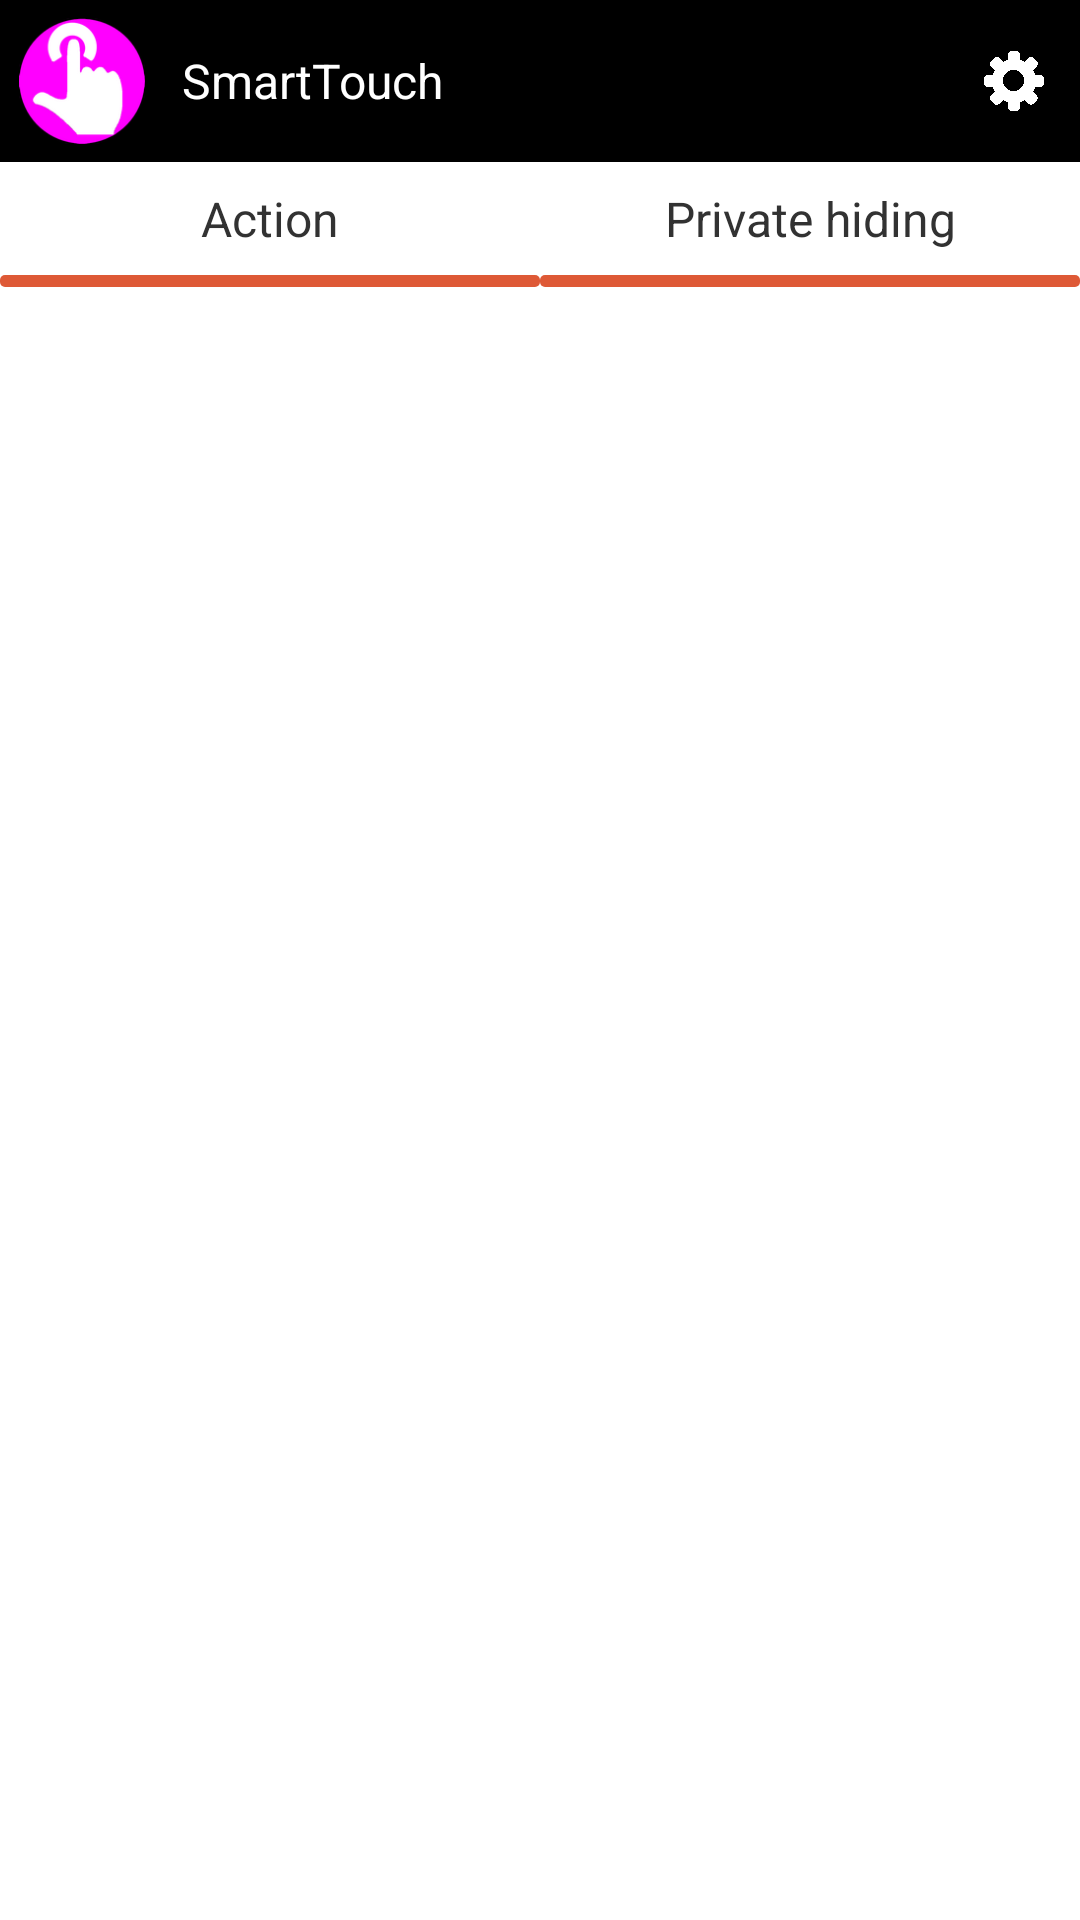

Icons on this 1080w x 1920h Android screen, each with its box as rect(x1, y1, x2, y2):
smarkey menu: rect(984, 51, 1044, 111)
